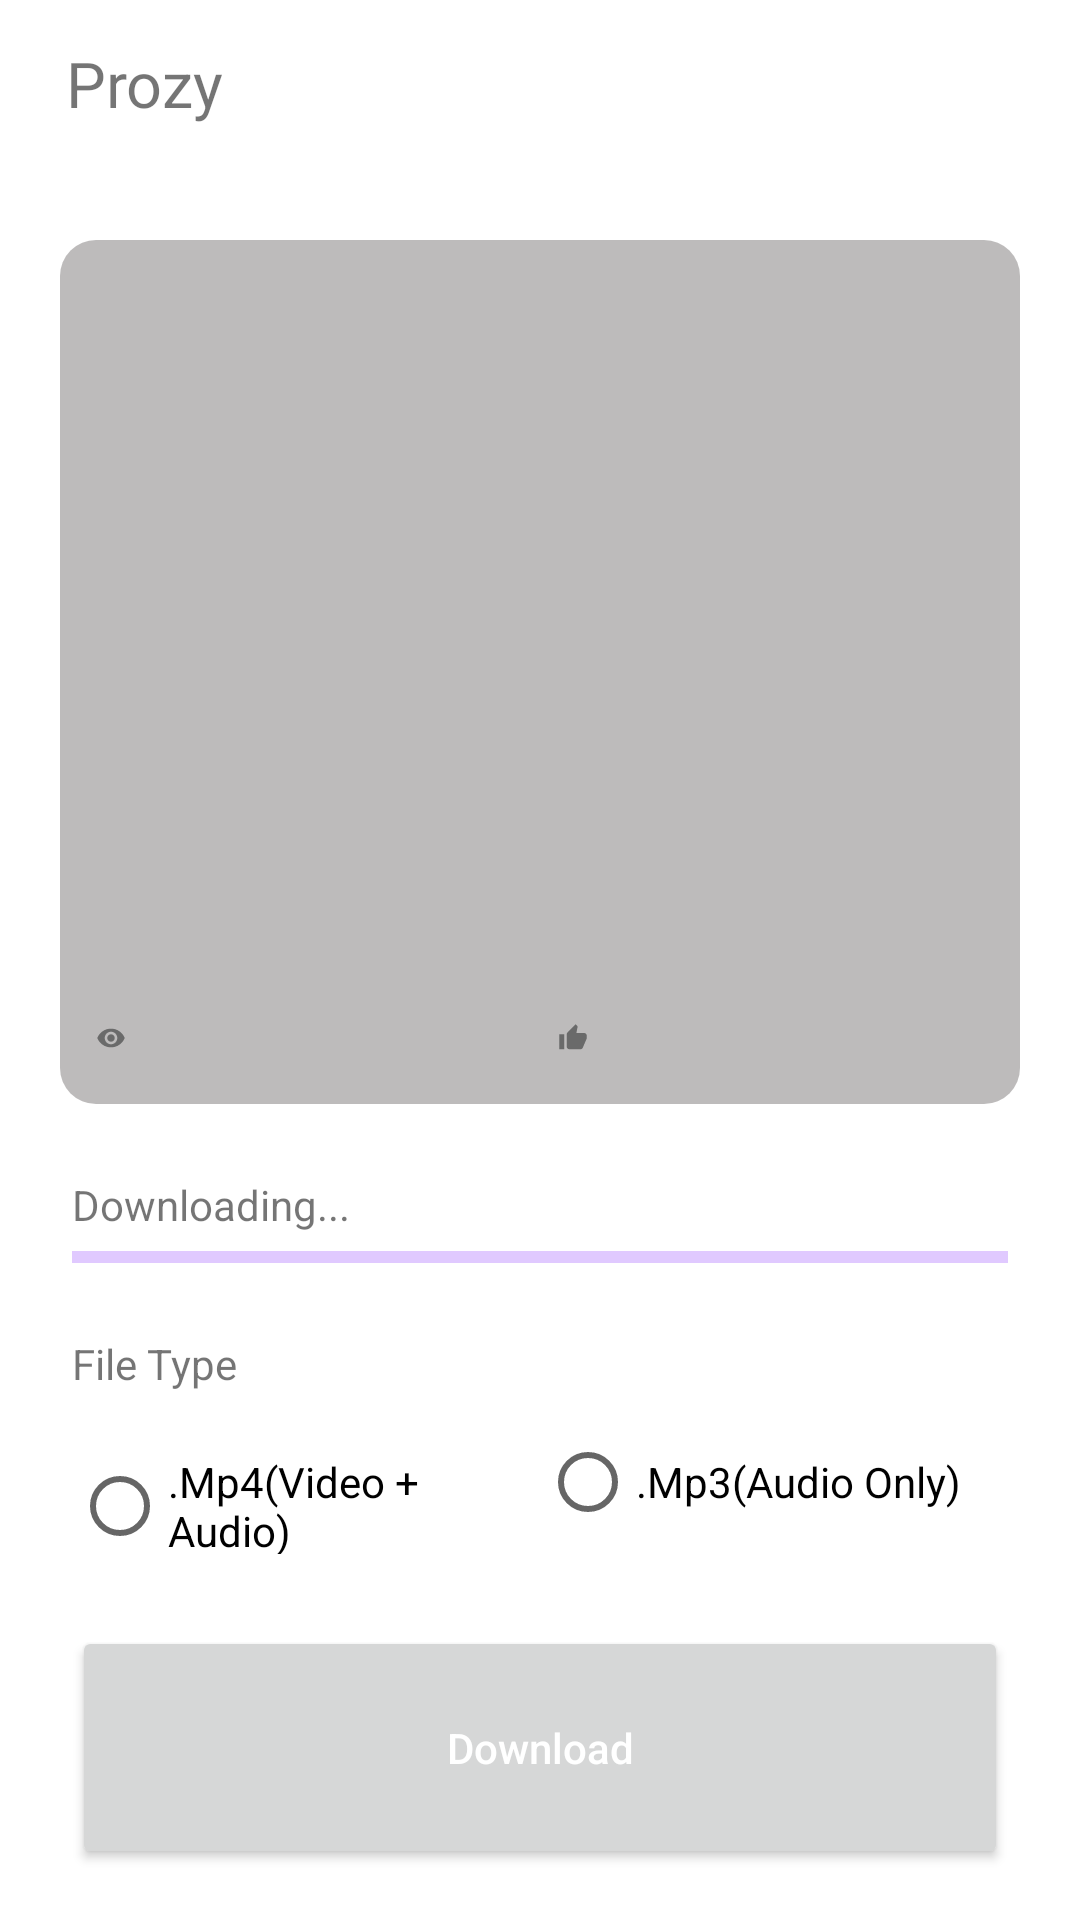

Where icons sit on this 1080×1920 app screen, as (x1, y1, x2, y2):
thumb up: (559, 1024, 587, 1049)
